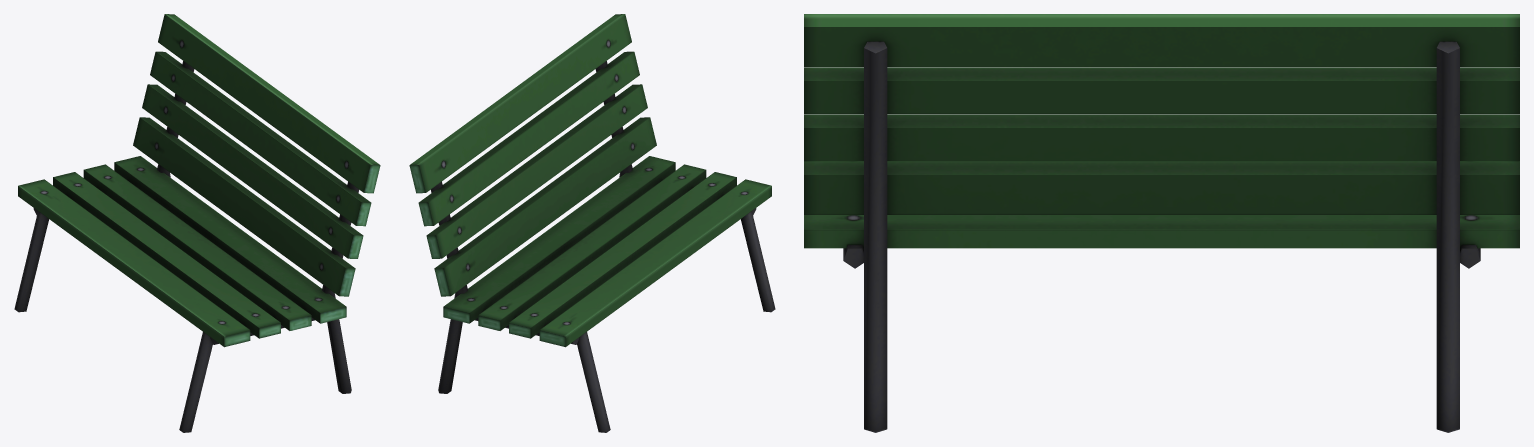
The model's file is WachtBankje.FBX.
3 views of the same model, side by side, from view 1: azimuth 30°, elevation 25°; view 2: azimuth 150°, elevation 25°; view 3: azimuth 270°, elevation 25° (orthographic). The views are drawn at different scales.
Parts seen in each view (by area): view 1: Bankje; view 2: Bankje; view 3: Bankje.
Boxes of the visible parts, x1=… form: Bankje: x1=14, y1=14, x2=380, y2=432; Bankje: x1=409, y1=14, x2=775, y2=432; Bankje: x1=804, y1=14, x2=1519, y2=432.
Bounding box in the file's own units: 90.67 × 113 × 175.
1 material, 1 textured.
